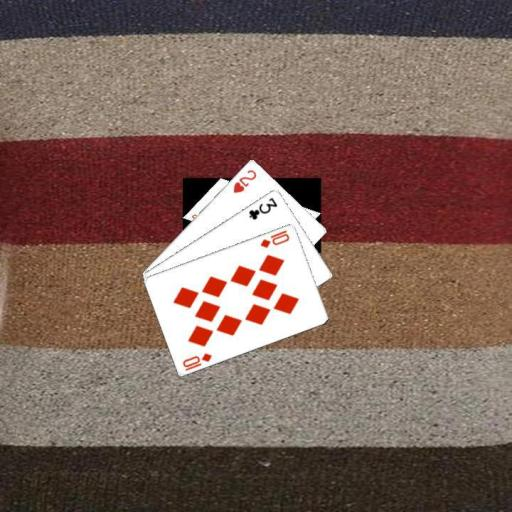10D: (257, 227, 291, 249), (180, 350, 214, 372)
2H: (230, 166, 258, 194)
3C: (245, 194, 279, 221)
